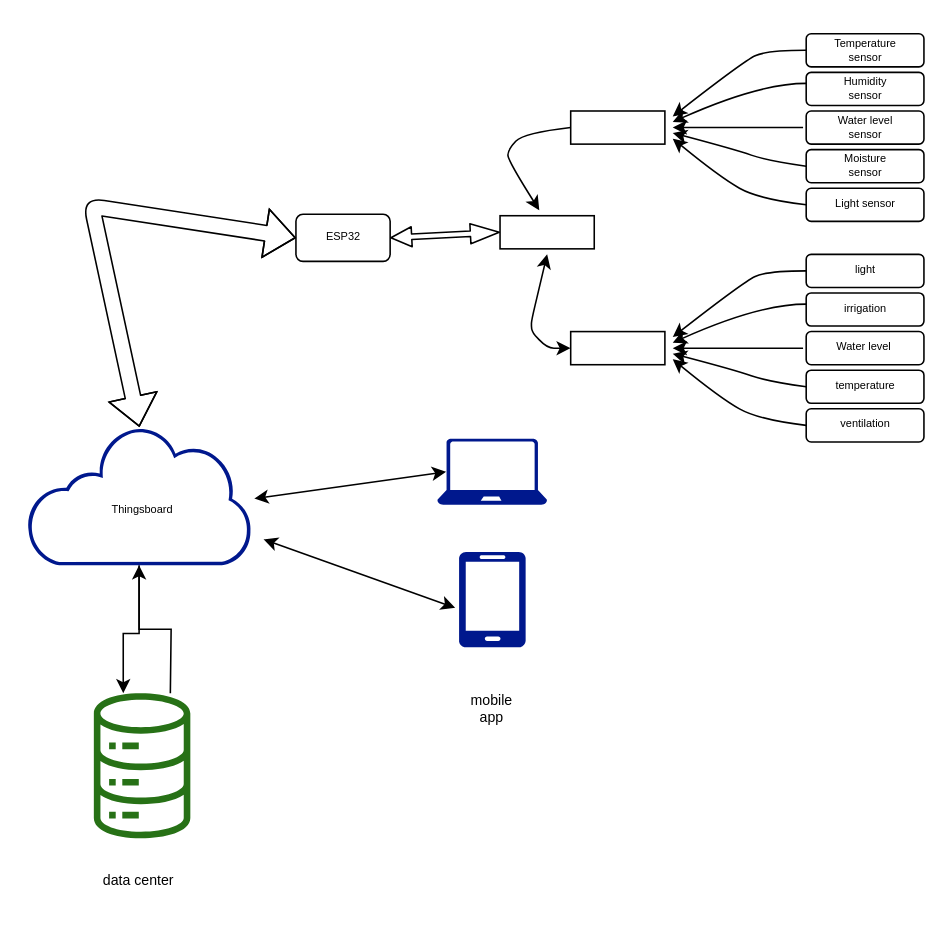
This 951x925 diagram has some shape labels left out. Here are the shapes that lost their labels. From the top down, the box of each, then its label:
(569, 109, 665, 144): sensing
(498, 214, 594, 249): arduino
(569, 330, 665, 365): controlling
(436, 438, 546, 504): web app
